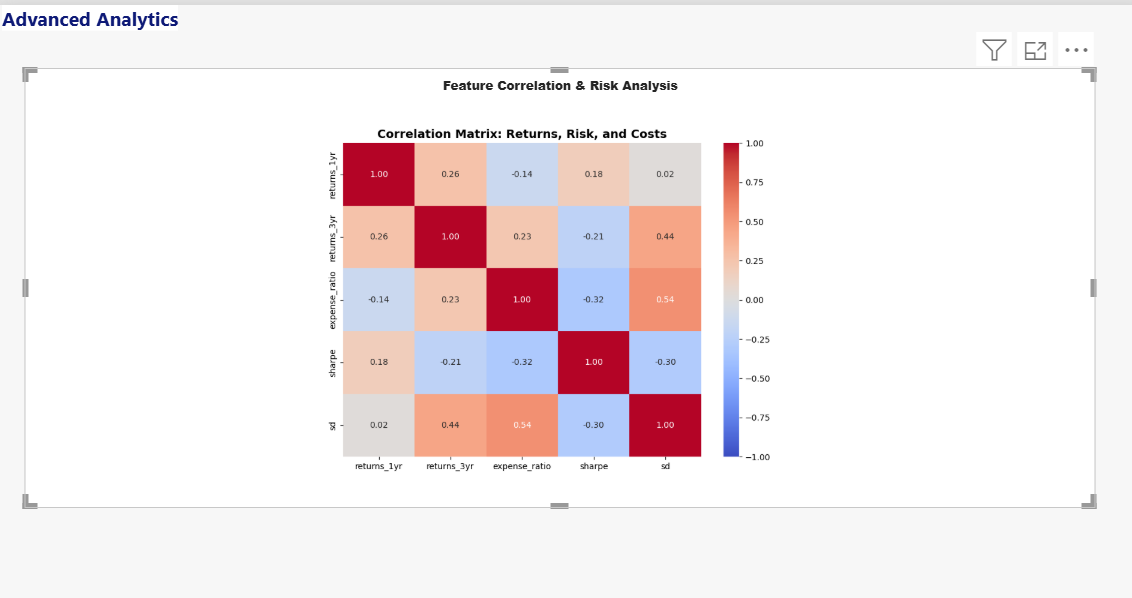

The dashboard page shown, as its layout file describes it:
{"tool":"powerbi","page":{"name":"Advanced Analytics","canvas":[1920,1080],"ordinal":2},"visuals":[{"type":"textbox","box":[10,0,622.5,72.5],"z":0},{"type":"pythonVisual","fields":{"Values":["Sum(All Funds.returns_1yr)","Sum(All Funds.returns_3yr)","All Funds.expense_ratio","All Funds.sharpe","All Funds.sd"]},"box":[10,176.5,623,150],"z":1}]}

Visuals, with their boxes on the page's 1920x1080 design canvas (x1, y1, x2, y2). These are canvas units, not pixel positions in the 1132x598 screenshot, which may show the page scaled, cropped or inside an application window:
textbox: [10,0,632,72]
pythonVisual - Sum(All Funds.returns_1yr) x Sum(All Funds.returns_3yr): [10,176,633,326]
